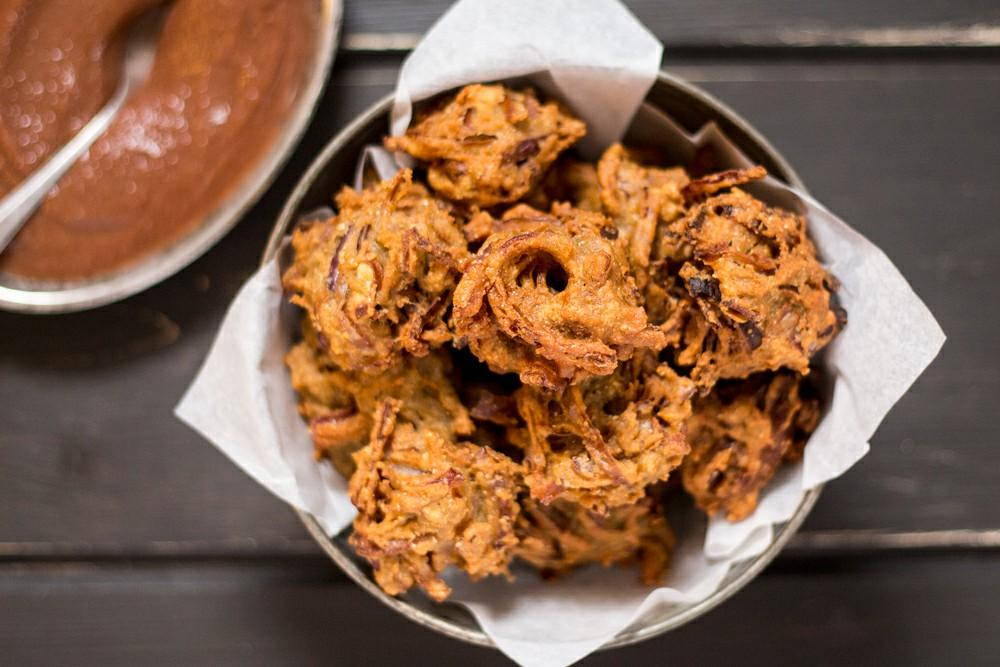OnionPakoda: (281, 80, 839, 606)
